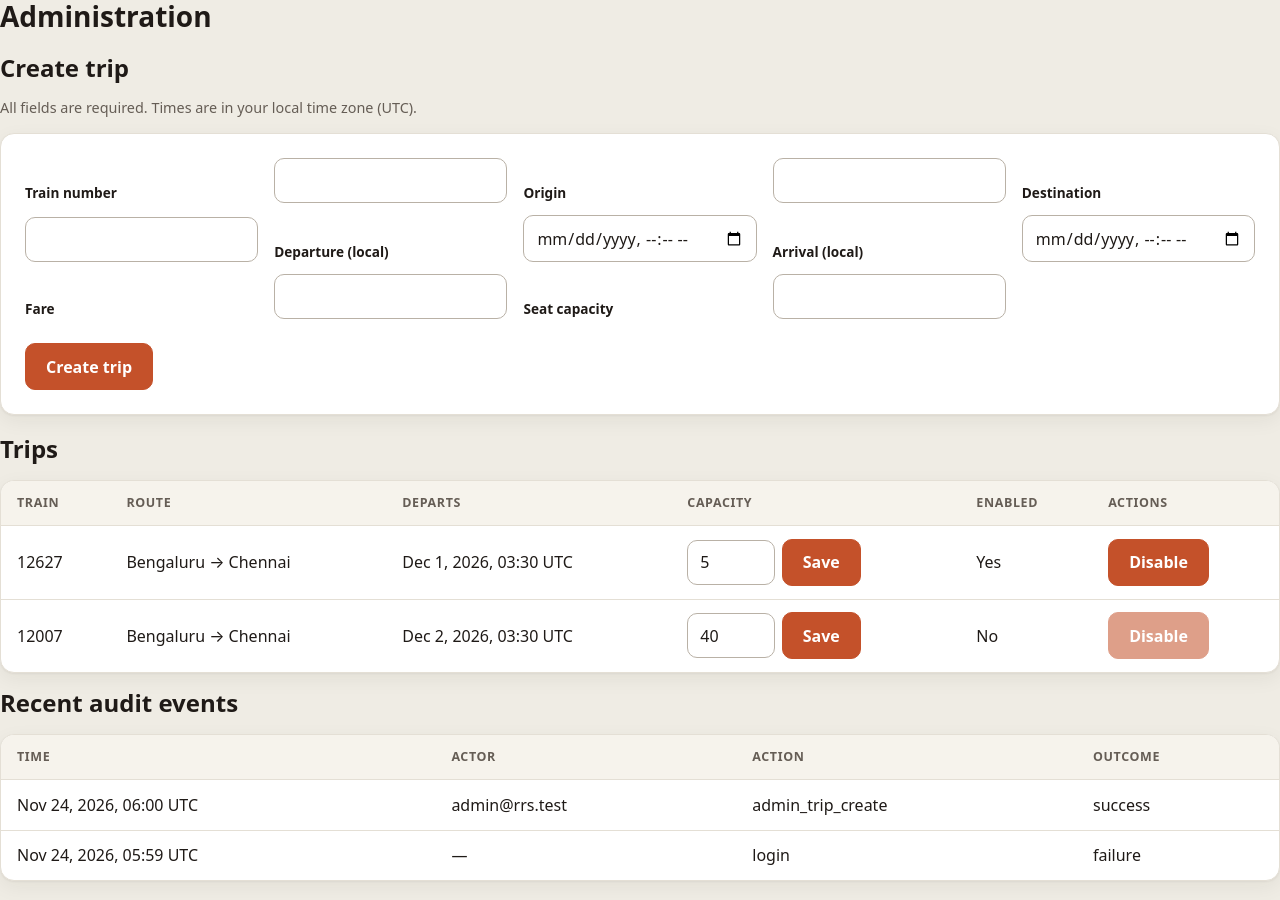
Test: administration page › creating a trip sends numbers and UTC times, shows a notice and clears the form
Step 1. Type "16021" into the field labelled "Train number" → (391, 180), box top-left (274, 158), bottom-right (507, 203)
Step 2. Type "Mysuru" into the field labelled "Origin" → (889, 180), box top-left (773, 158), bottom-right (1006, 203)
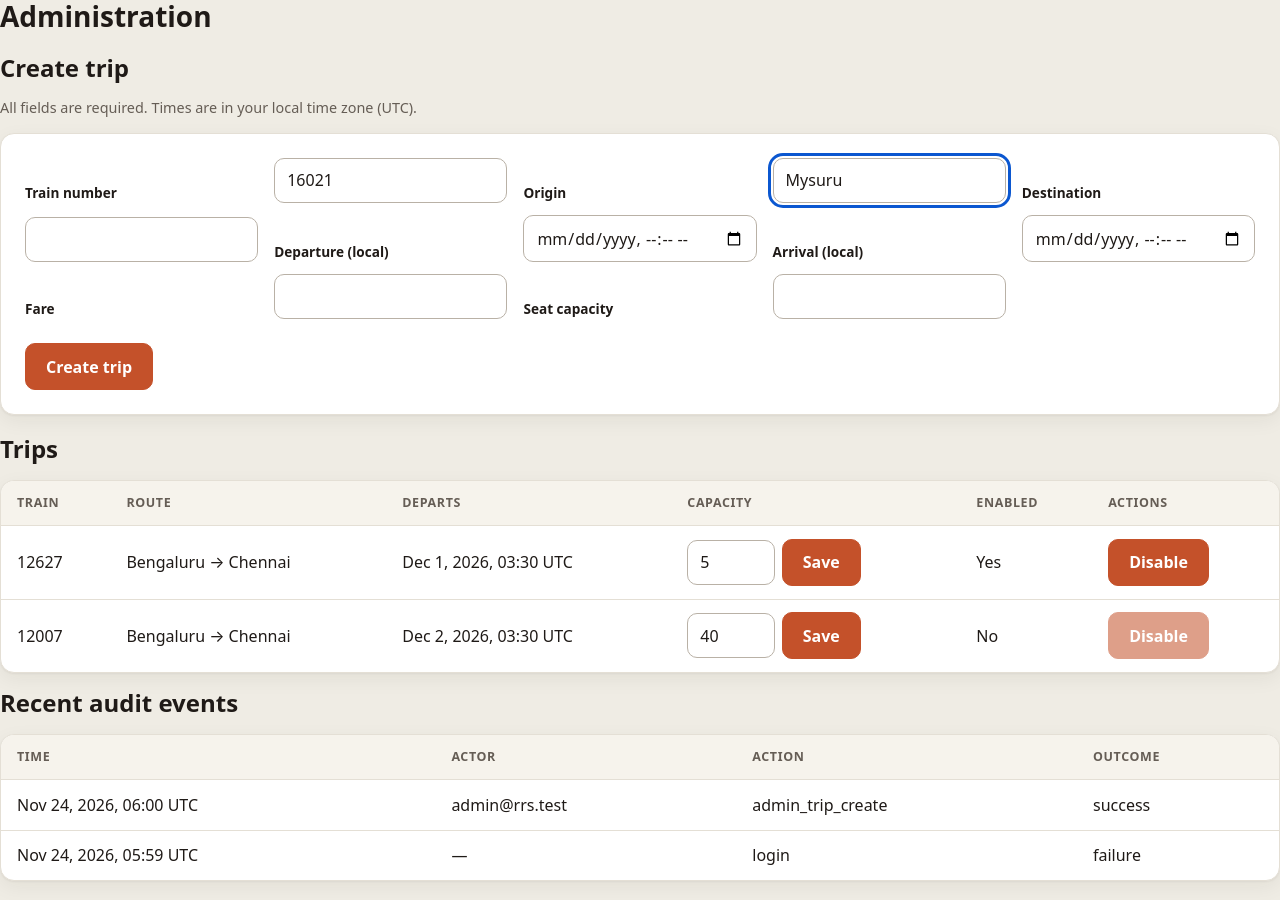
Step 3. Type "Chennai" into the field labelled "Destination" → (142, 240), box top-left (25, 217), bottom-right (258, 262)
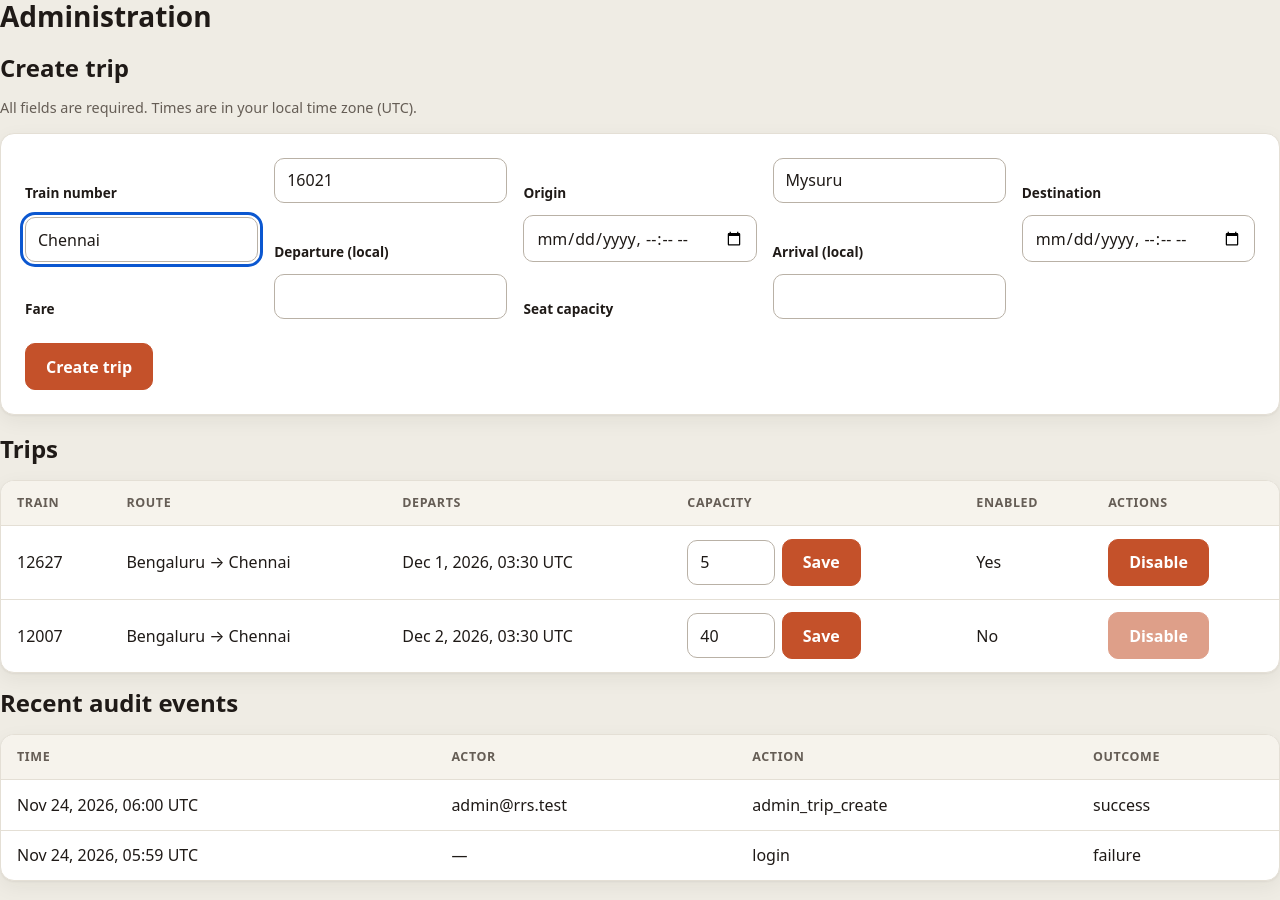
Step 4. Type "2026-12-05T09:30" into the field labelled "Departure (local)" → (640, 239), box top-left (523, 215), bottom-right (757, 262)
Step 5. Type "2026-12-05T16:00" into the field labelled "Arrival (local)" → (1138, 239), box top-left (1022, 215), bottom-right (1255, 262)
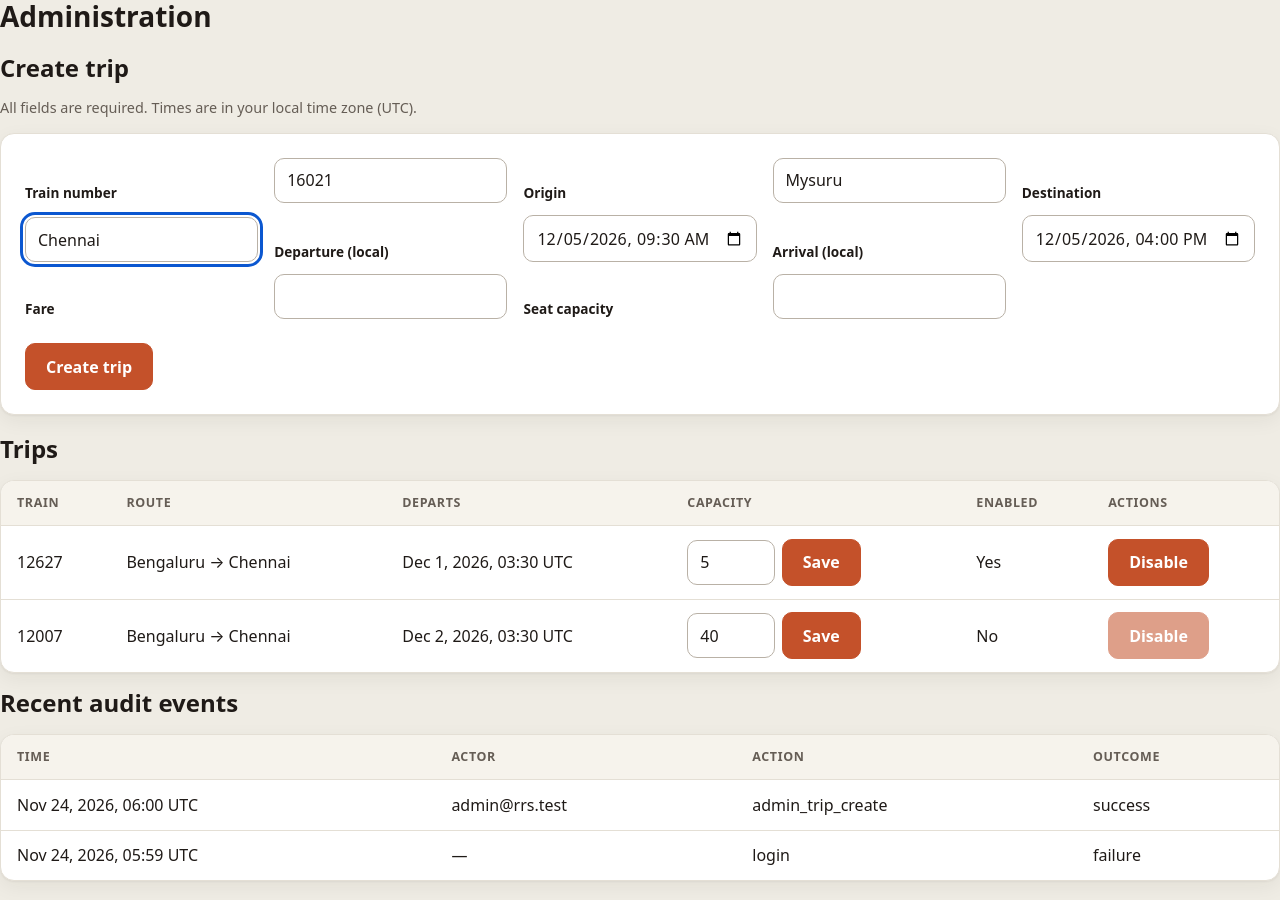
Step 6. Type "725.5" into the number field labelled "Fare" → (391, 297), box top-left (274, 274), bottom-right (507, 319)
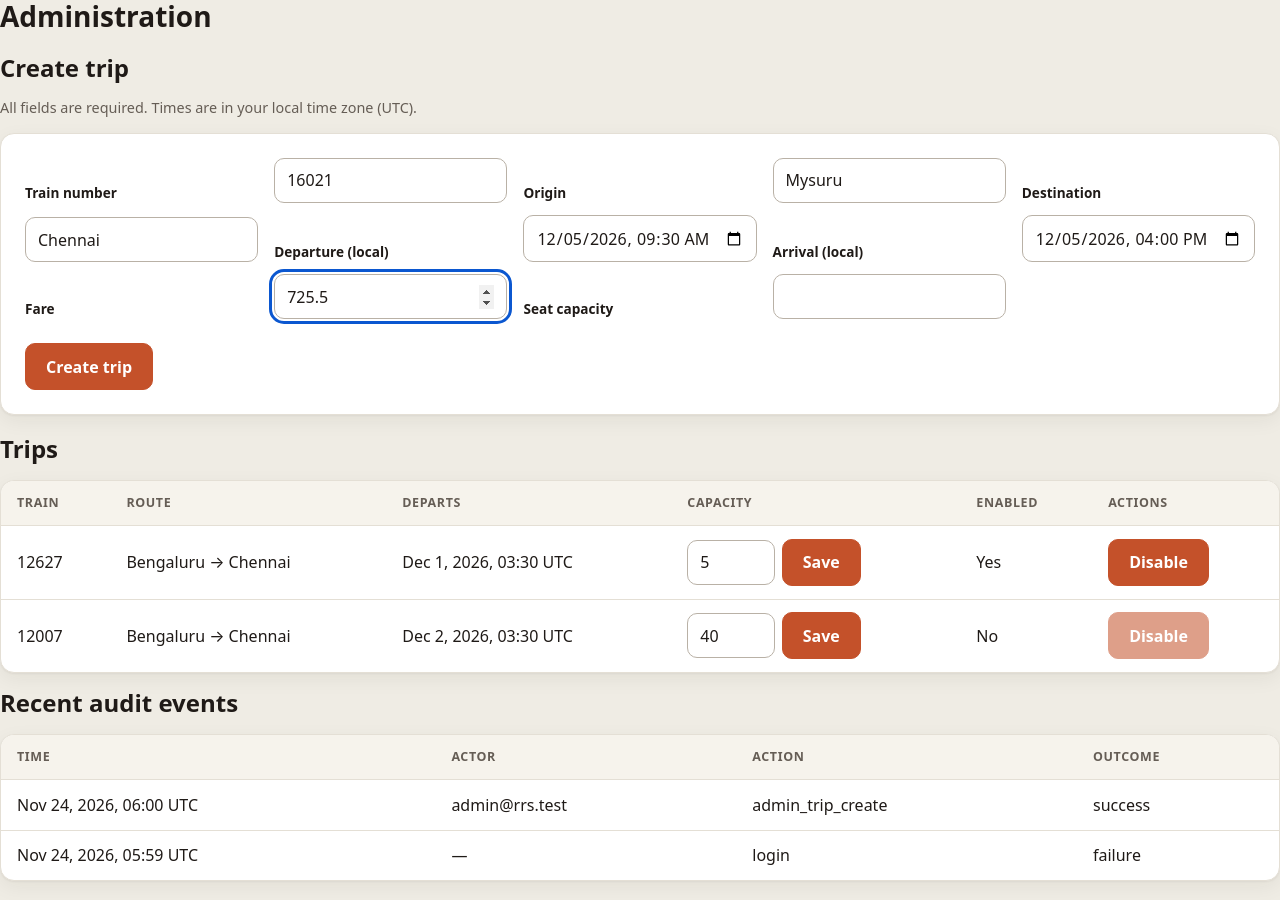
Step 7. Type "12" into the number field labelled "Seat capacity" → (889, 297), box top-left (773, 274), bottom-right (1006, 319)
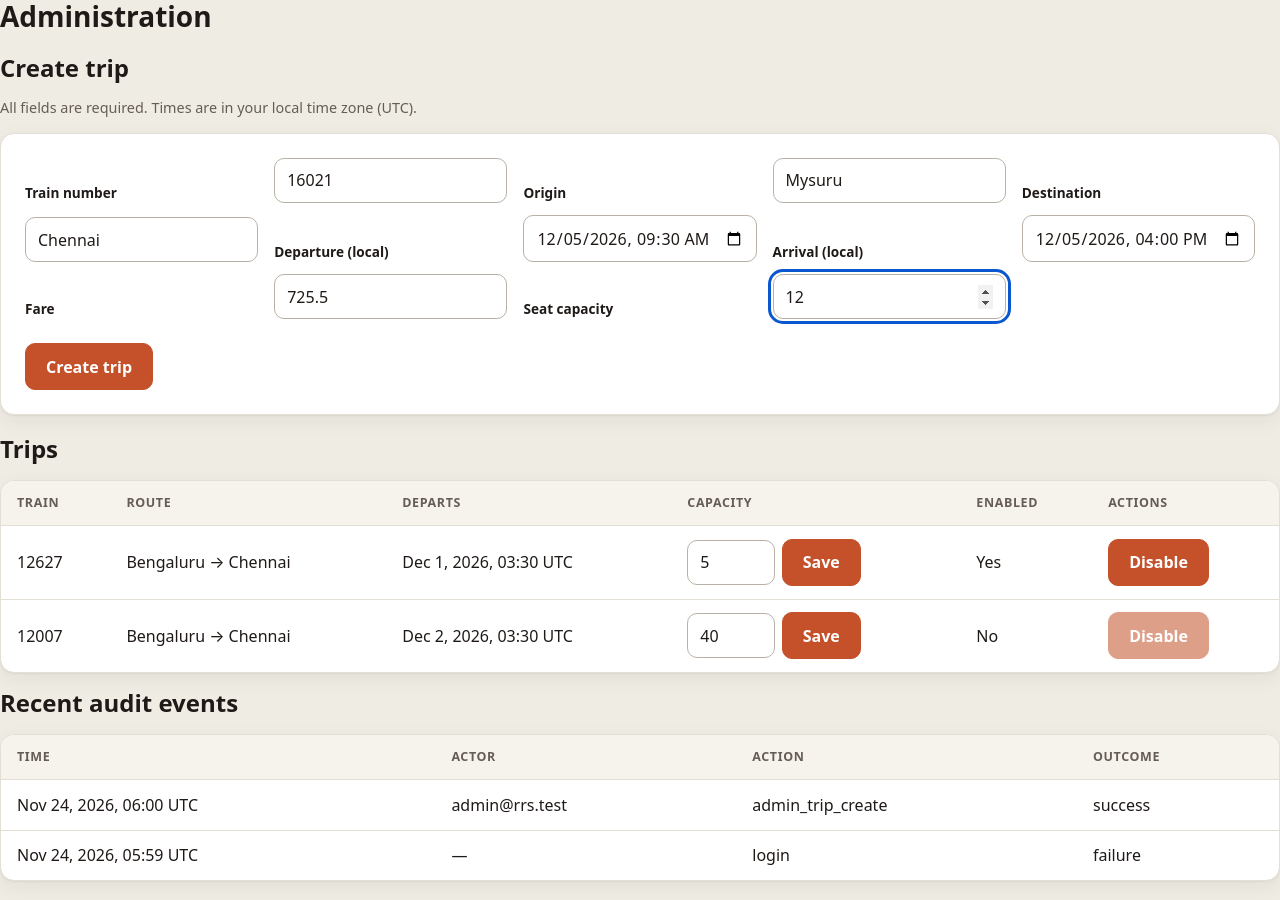
Step 8. Click the button "Create trip" → (89, 367), box top-left (25, 343), bottom-right (153, 390)
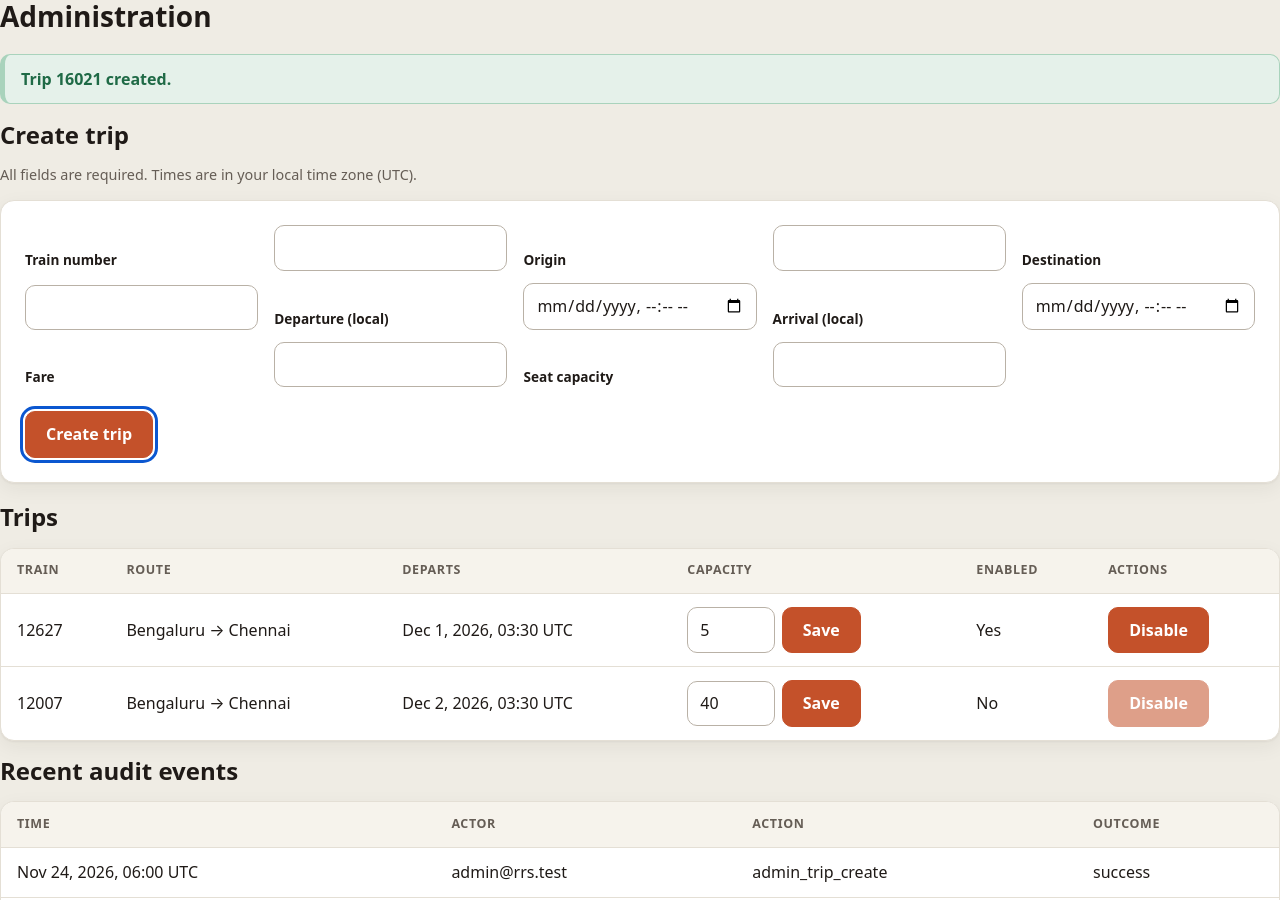
Now the message reads "Trip 16021 created.", box top-left (21, 68), bottom-right (171, 90)
Now the field labelled "Train number" is empty, box top-left (274, 225), bottom-right (507, 271)
